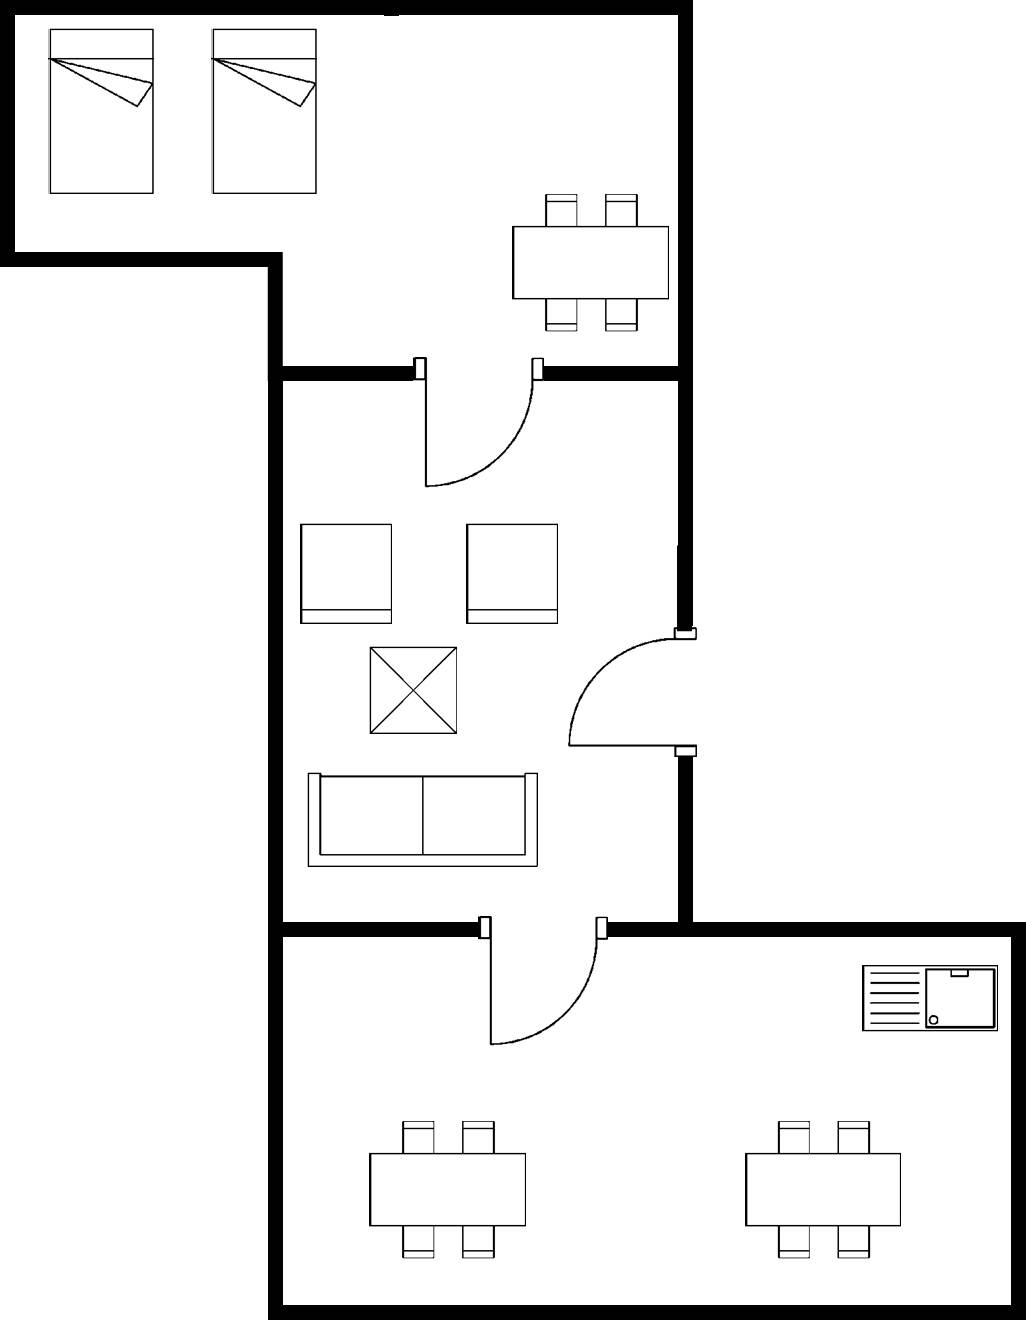bed: (43, 21, 165, 206), (207, 20, 325, 202)
coffee_table: (363, 640, 467, 744)
dining_table: (499, 186, 683, 340), (735, 1111, 907, 1270), (362, 1111, 535, 1269)
large_sofa: (293, 763, 553, 883)
sink: (852, 954, 1003, 1042)
small_sofa: (460, 516, 567, 635), (293, 515, 399, 631)
